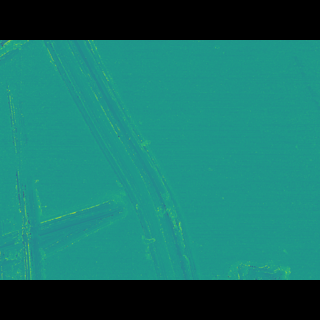Loch: (43, 70, 202, 250), (0, 182, 130, 250), (2, 101, 45, 250), (212, 233, 299, 250)
